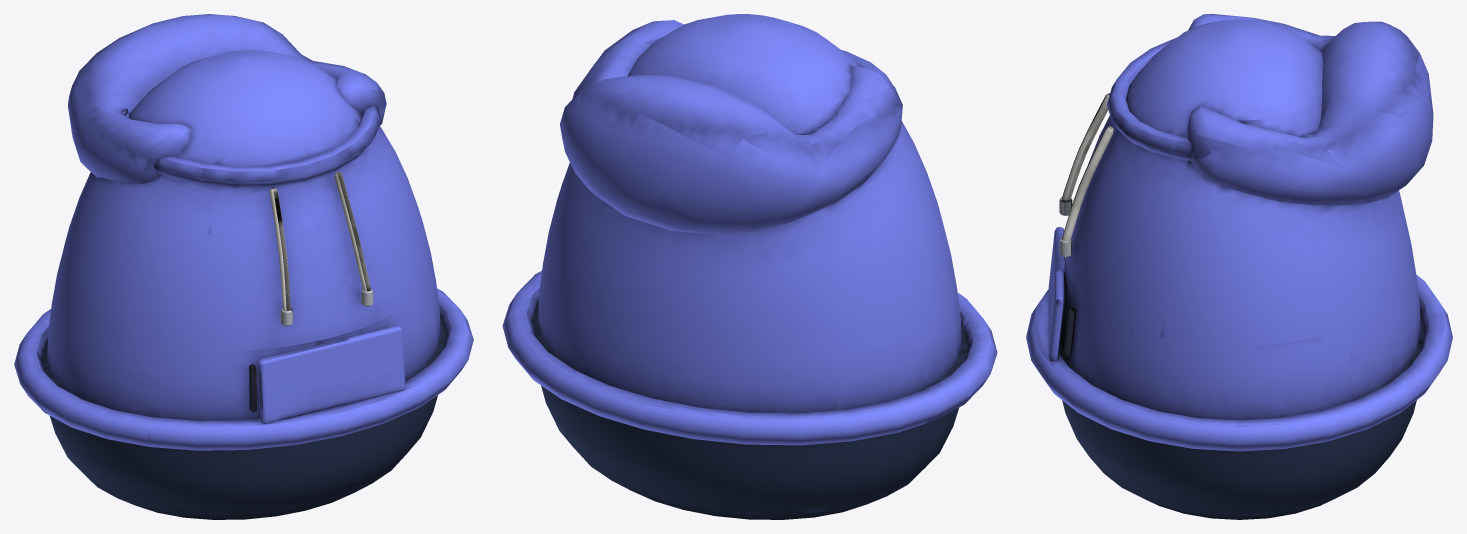
Rendered from char_torso_hoodie.glb.
The picture shows the model from 3 angles, left to right: view 1: azimuth 30°, elevation 25°; view 2: azimuth 150°, elevation 25°; view 3: azimuth 270°, elevation 25°; orthographic projection. The views are drawn at different scales.
Parts seen in each view (by area): view 1: Chest, char_torso_hoodie; view 2: Chest, char_torso_hoodie; view 3: Chest, char_torso_hoodie.
Boxes of the visible parts, x1=… form: Chest: x1=54, y1=14, x2=433, y2=351; char_torso_hoodie: x1=14, y1=267, x2=473, y2=519; Chest: x1=546, y1=14, x2=953, y2=338; char_torso_hoodie: x1=502, y1=248, x2=997, y2=519; Chest: x1=1059, y1=14, x2=1433, y2=346; char_torso_hoodie: x1=1026, y1=227, x2=1452, y2=519.
Size of the model in its own units: 0.5727 by 0.569 by 0.4922.
5 materials, 5 textured.
